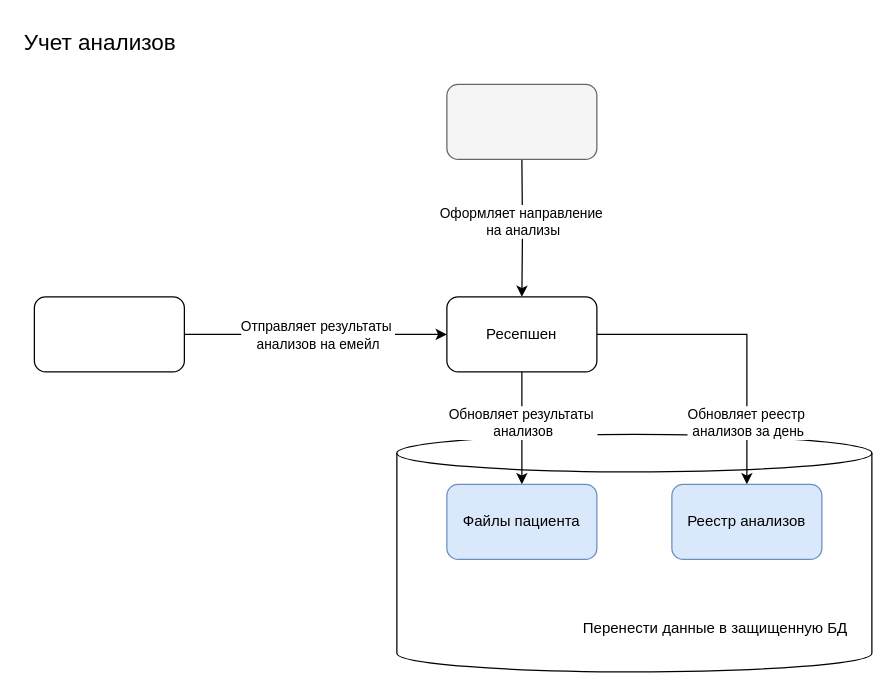
This 894x694 diagram has some shape labels left out. Each missing label, with the box of its shape:
Лаборатория: (33, 296, 184, 372)
Специалист: (446, 83, 597, 159)
